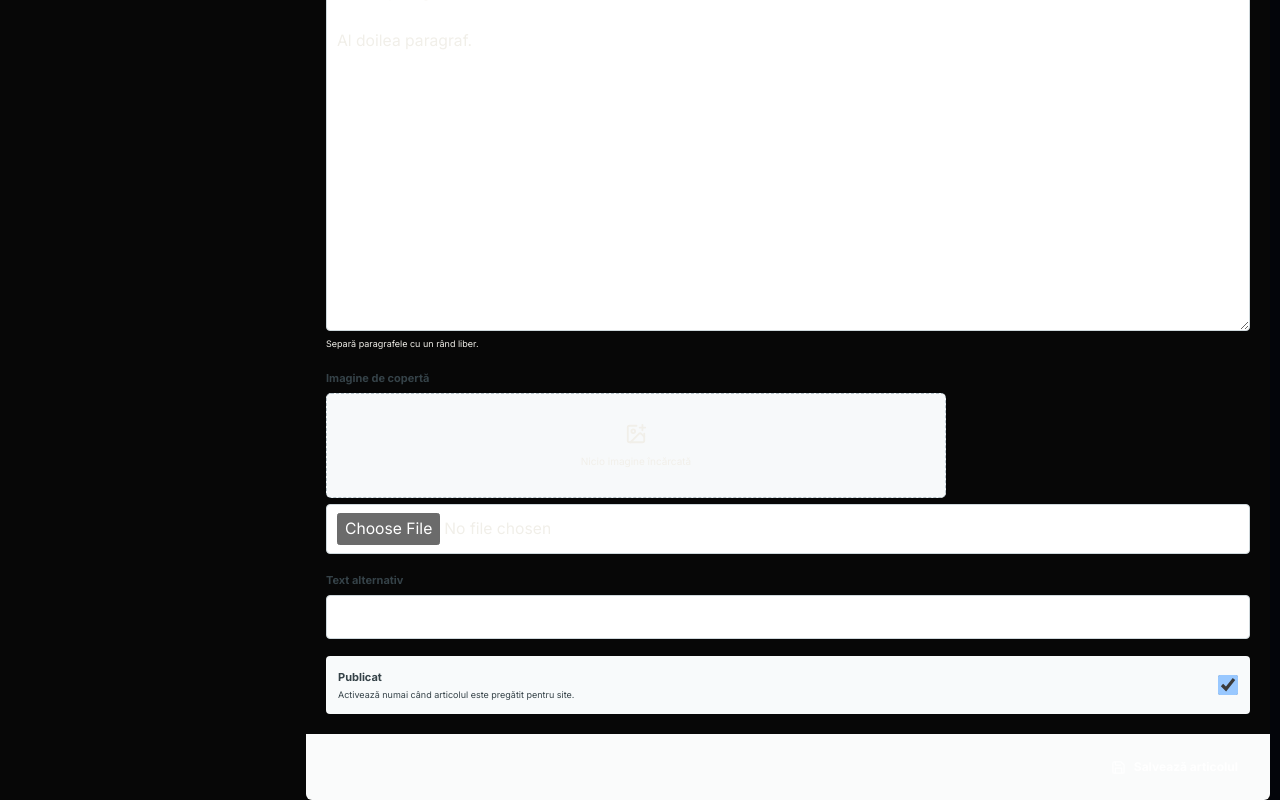
Test: saving changes status from published to draft only after the server confirms
Later steps or results of the test are not shown.
(page scrolled)
Click the checkbox at (1228, 685), box [1218,675,1238,695]
(page scrolled)
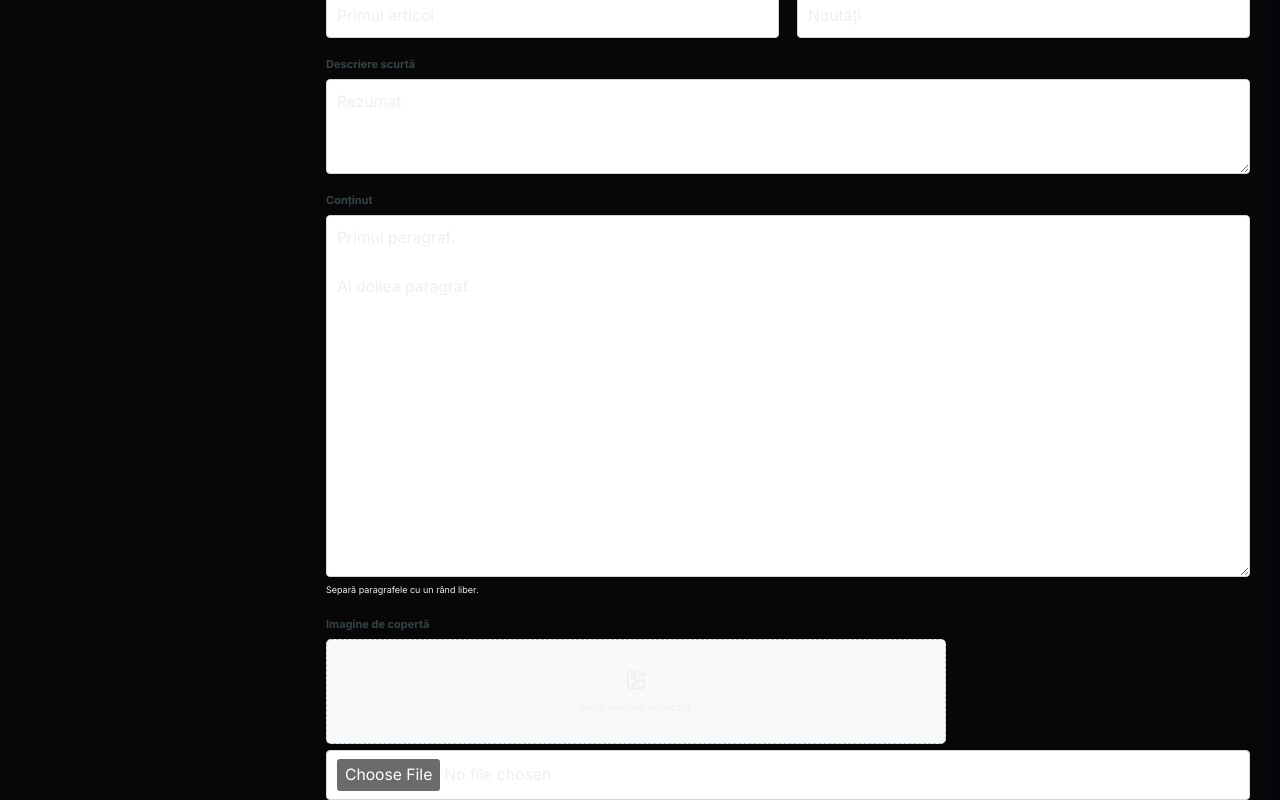
Submit the form
(page scrolled)
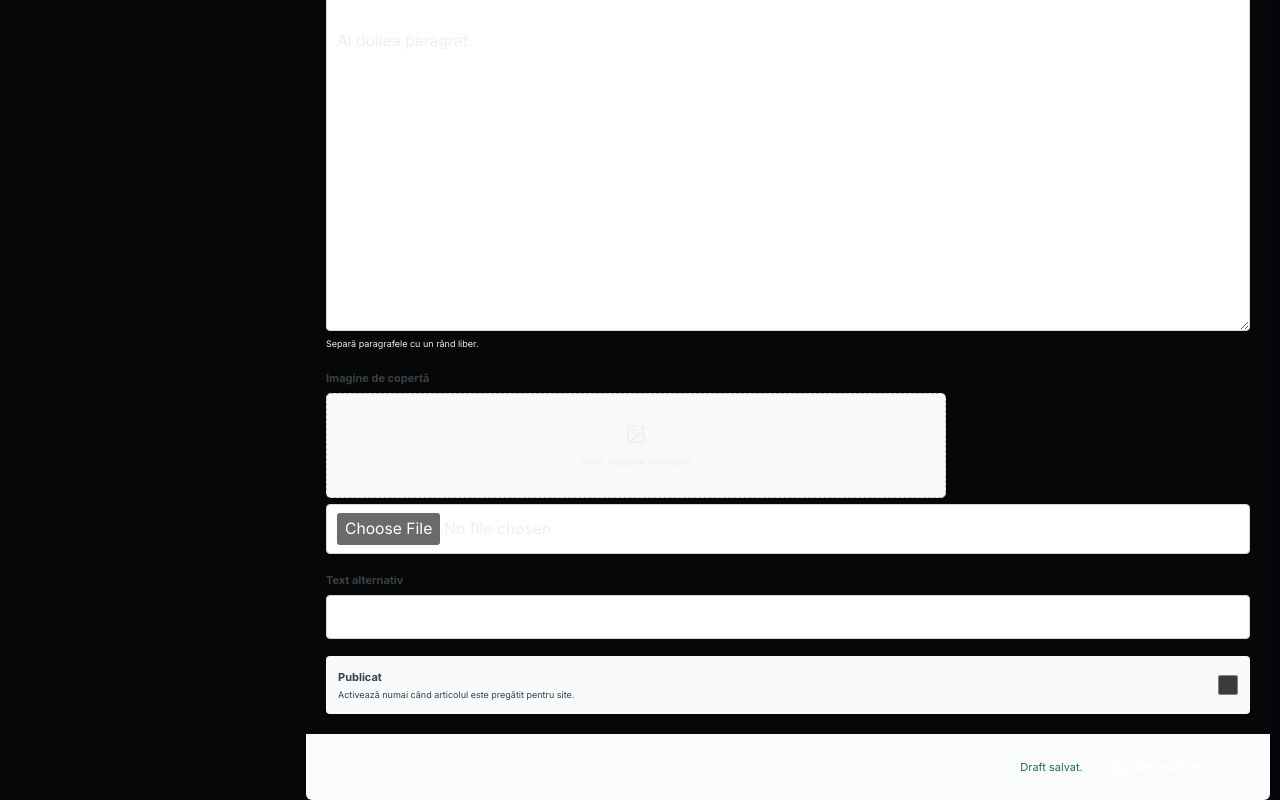
Check: the checkbox is not checked, box [1218,675,1238,695]
Check: the text "Draft salvat." is shown, box [1020,758,1083,776]
